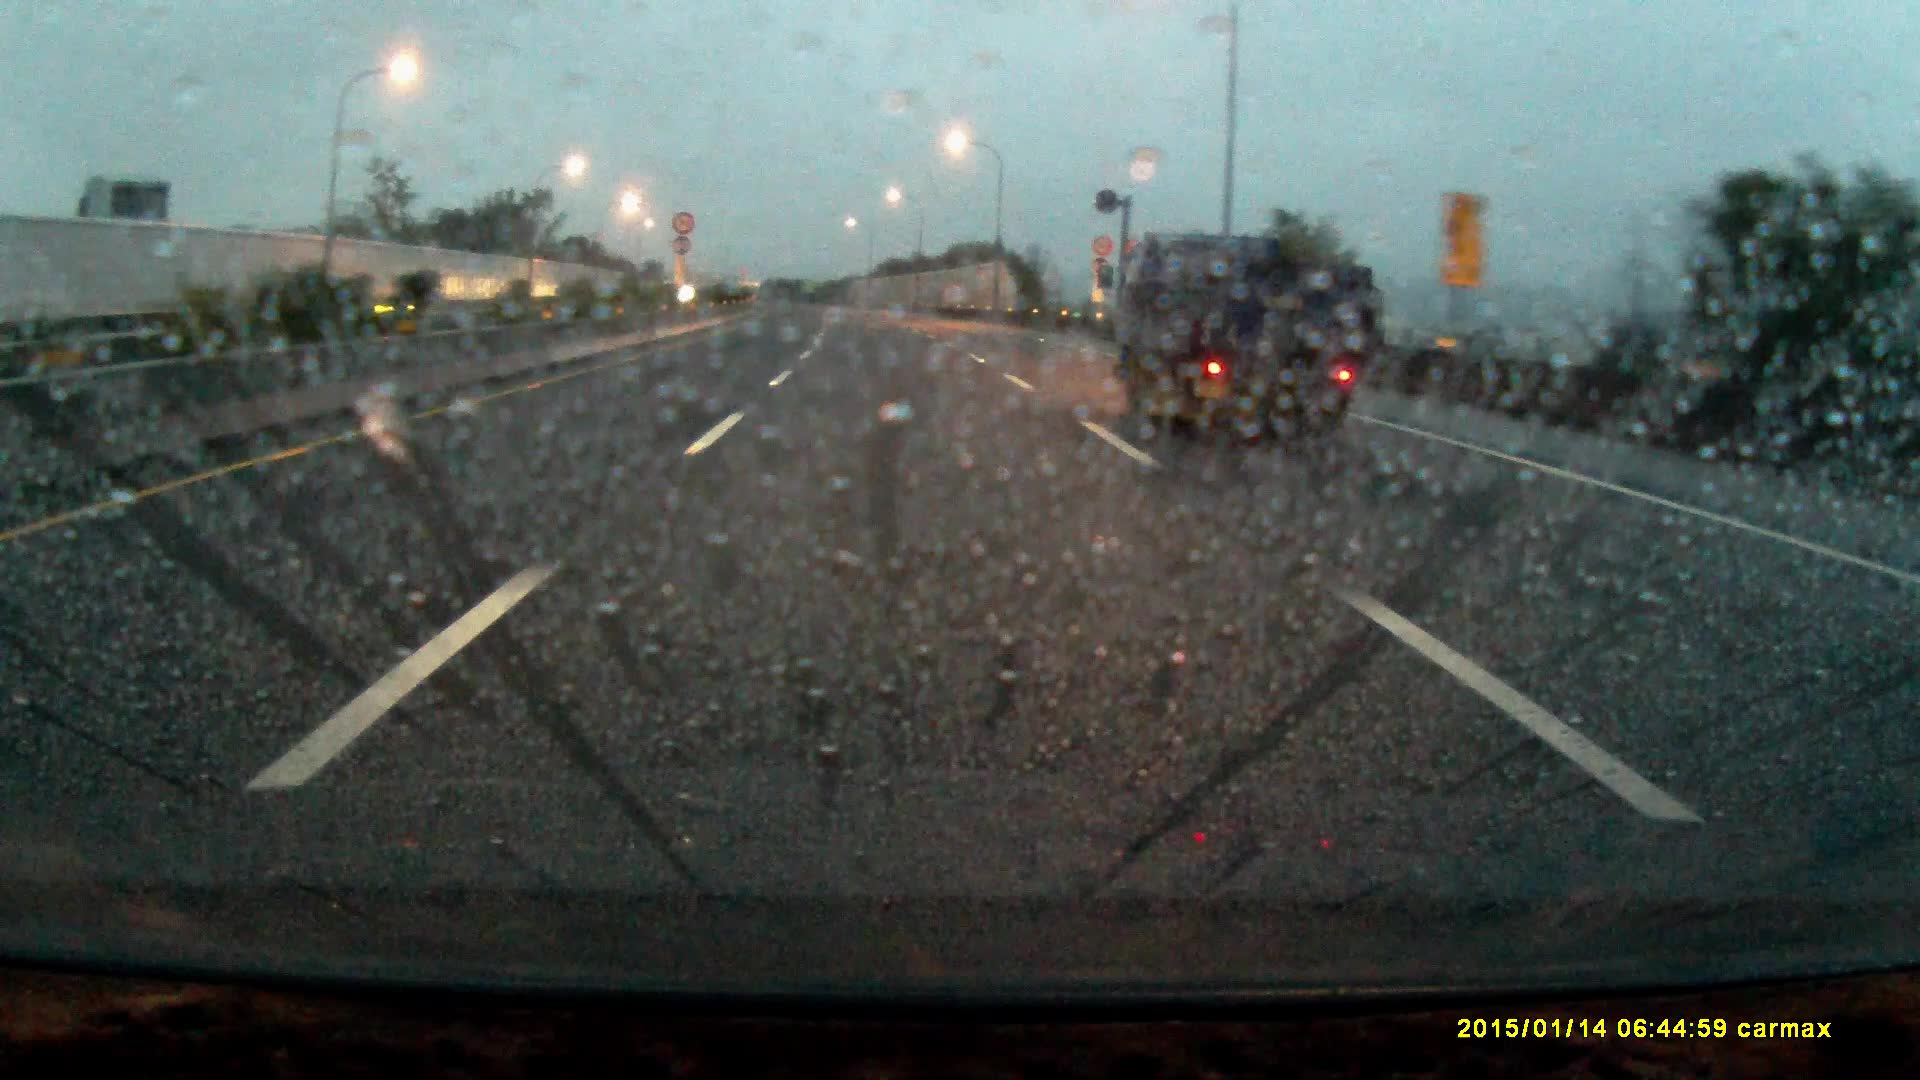vehicle: (1116, 233, 1375, 448)
